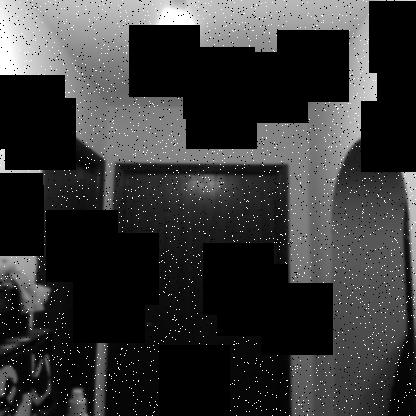Porte: (102, 162, 296, 416)
